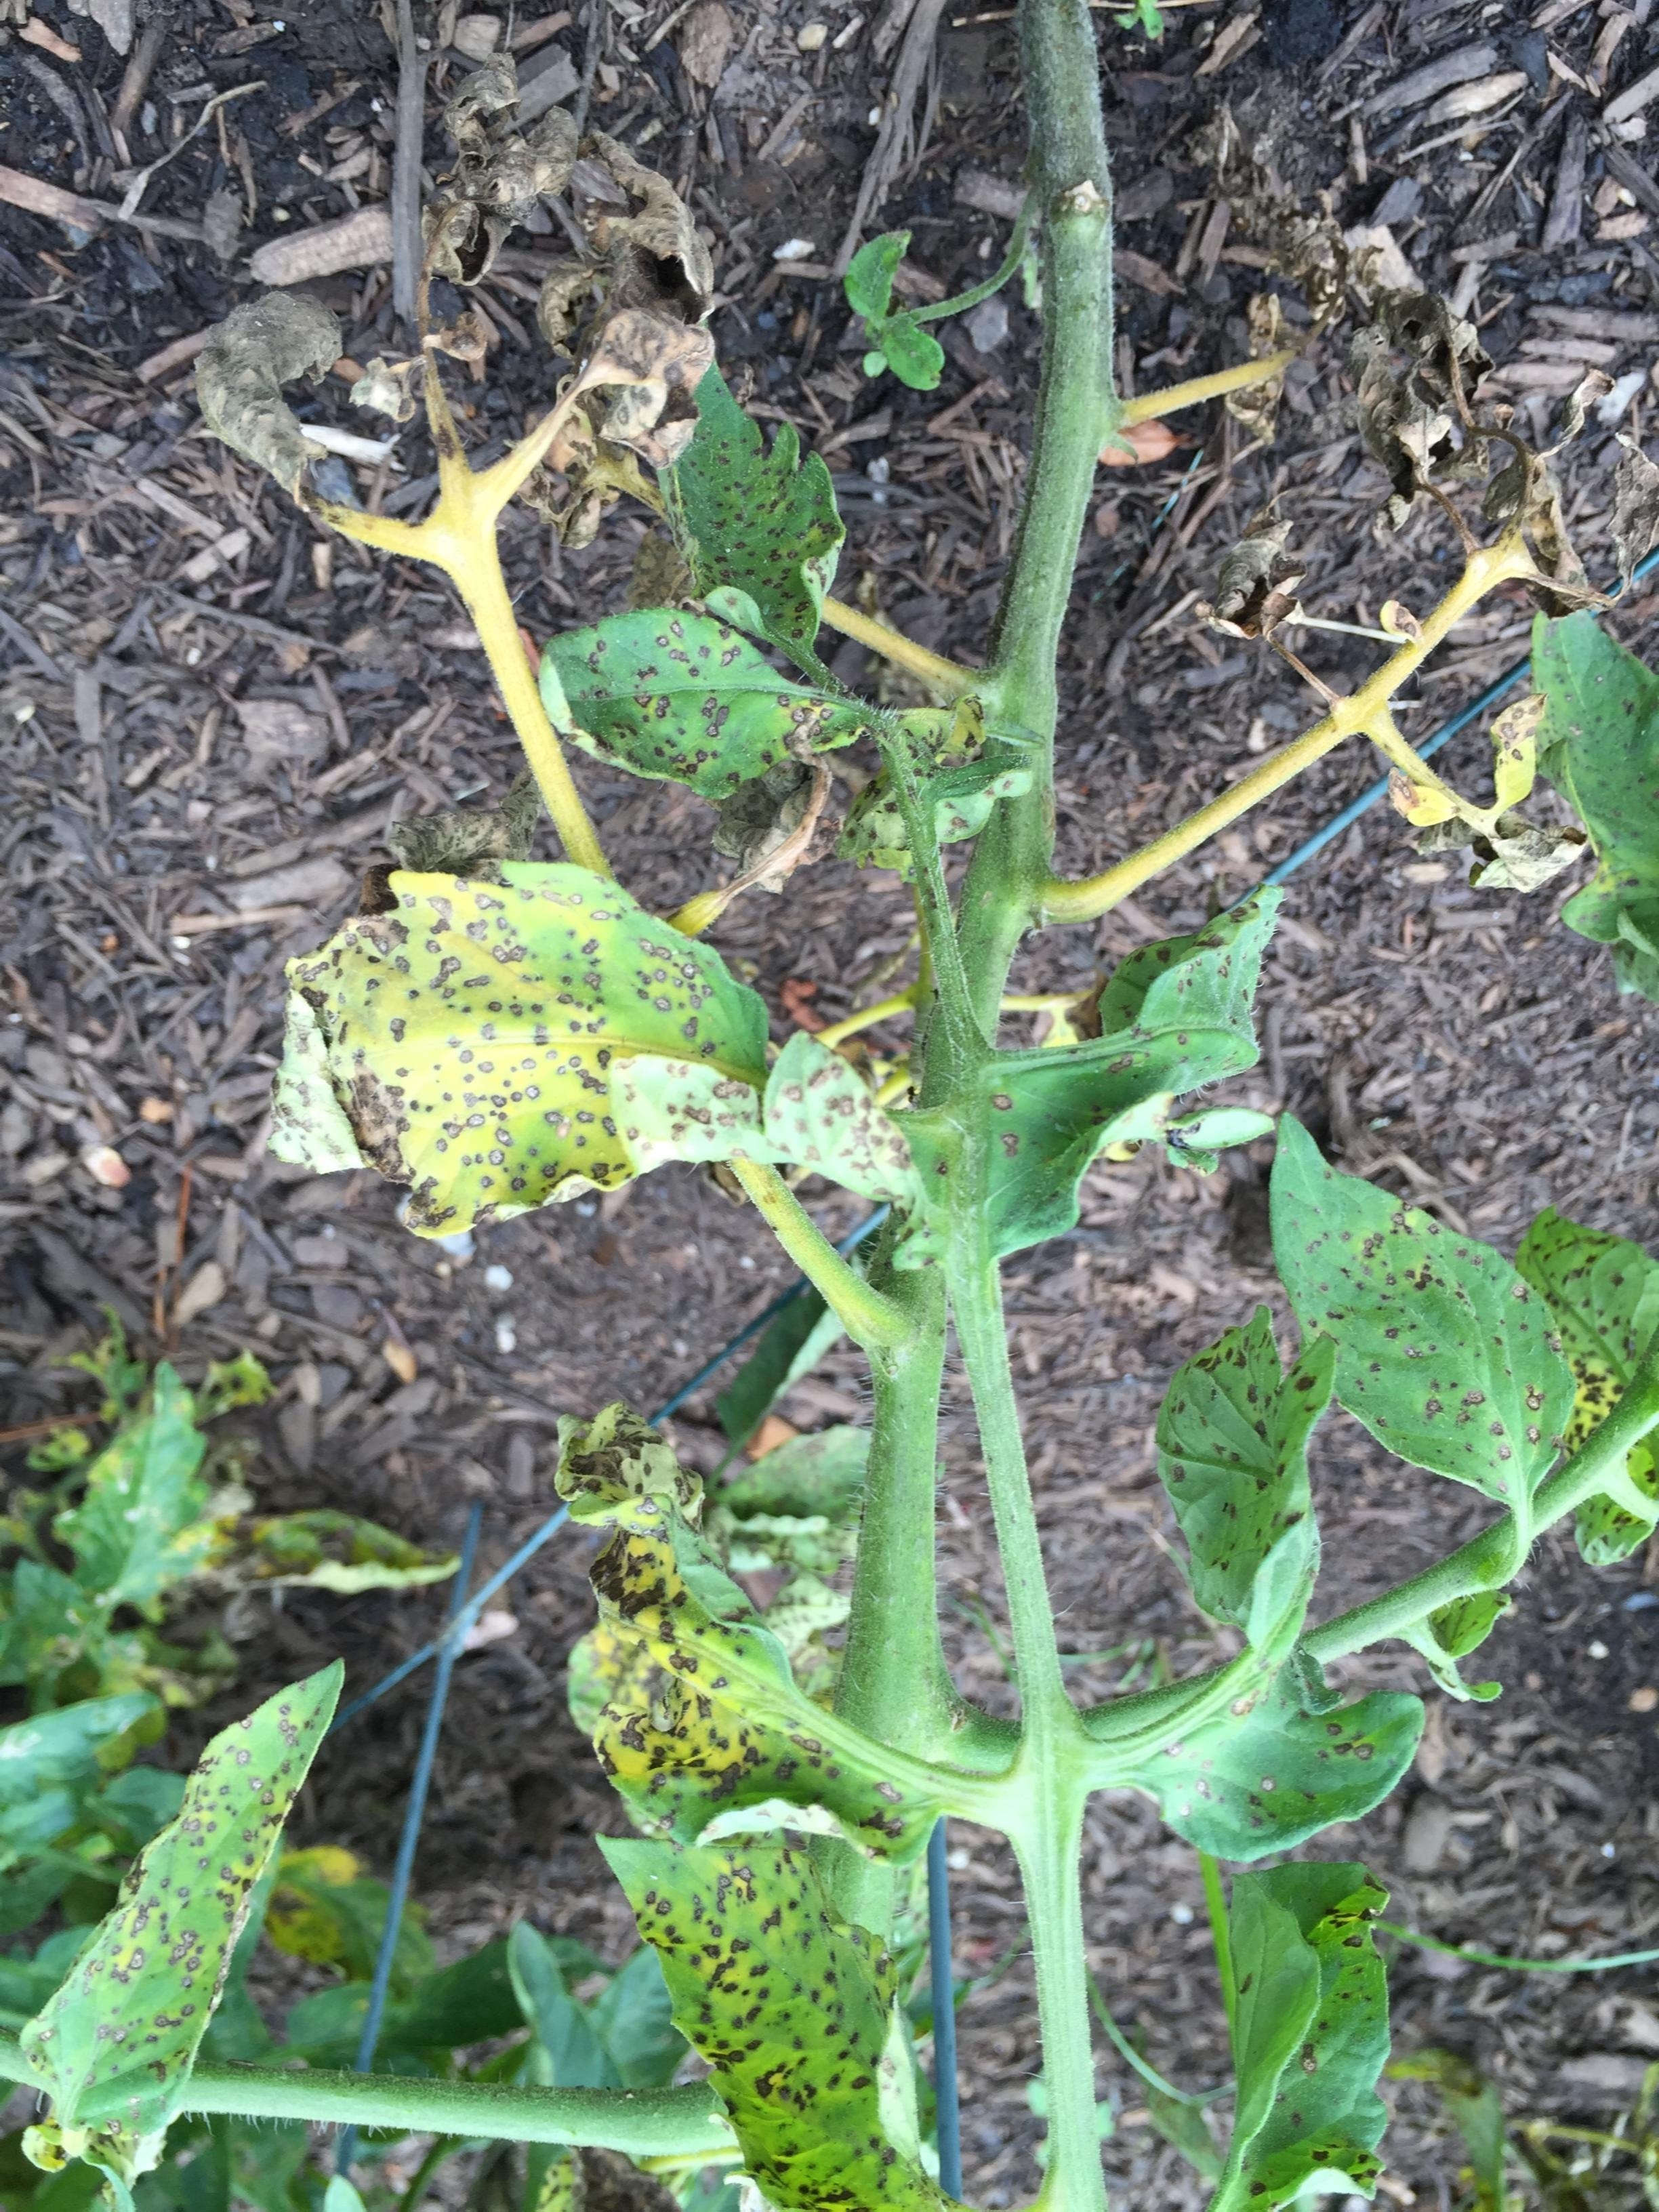Tomato Septoria leaf spot: (169, 838, 988, 1235), (540, 1395, 962, 1851), (579, 1825, 1021, 2196), (19, 1663, 350, 2151), (1237, 1094, 1603, 1510), (958, 871, 1277, 1275), (645, 350, 924, 657), (477, 592, 864, 806), (1133, 1312, 1354, 1667)
